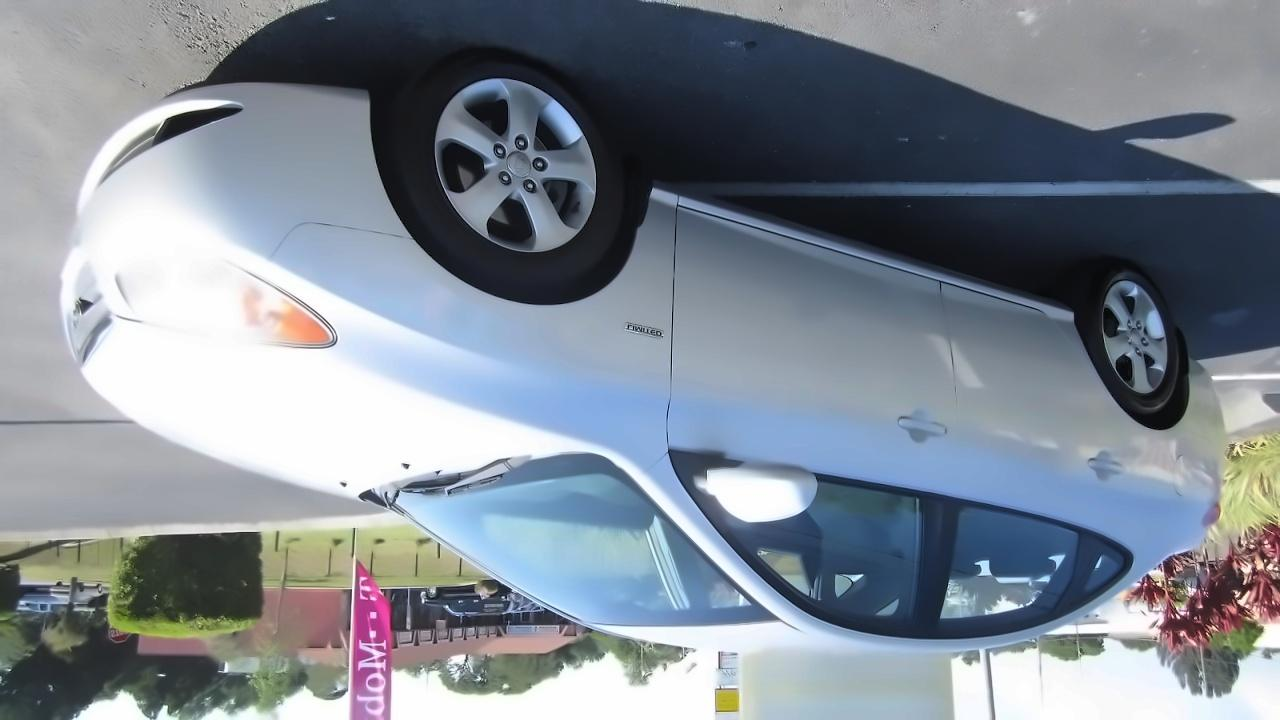Car hood: (60, 221, 576, 498)
Driver-s door - -F-R-: (679, 194, 954, 650)
Fender - -F-R-: (266, 190, 679, 459)
Fender - -R-R-: (1107, 337, 1201, 541)
Front bumper: (54, 60, 413, 271)
Headlight - -R-: (60, 190, 350, 359)
Passenger-s door - -R-R-: (932, 277, 1141, 651)
Rear bumper: (1179, 357, 1232, 459)
Side bumper - -R-: (620, 169, 1085, 330)
Side mirror - -R-: (679, 452, 826, 537)
